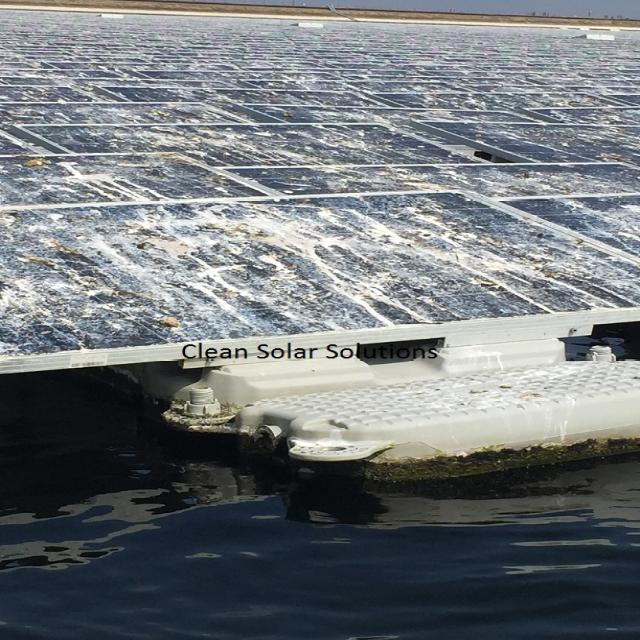dust-solar-panel: (0, 6, 640, 358)
